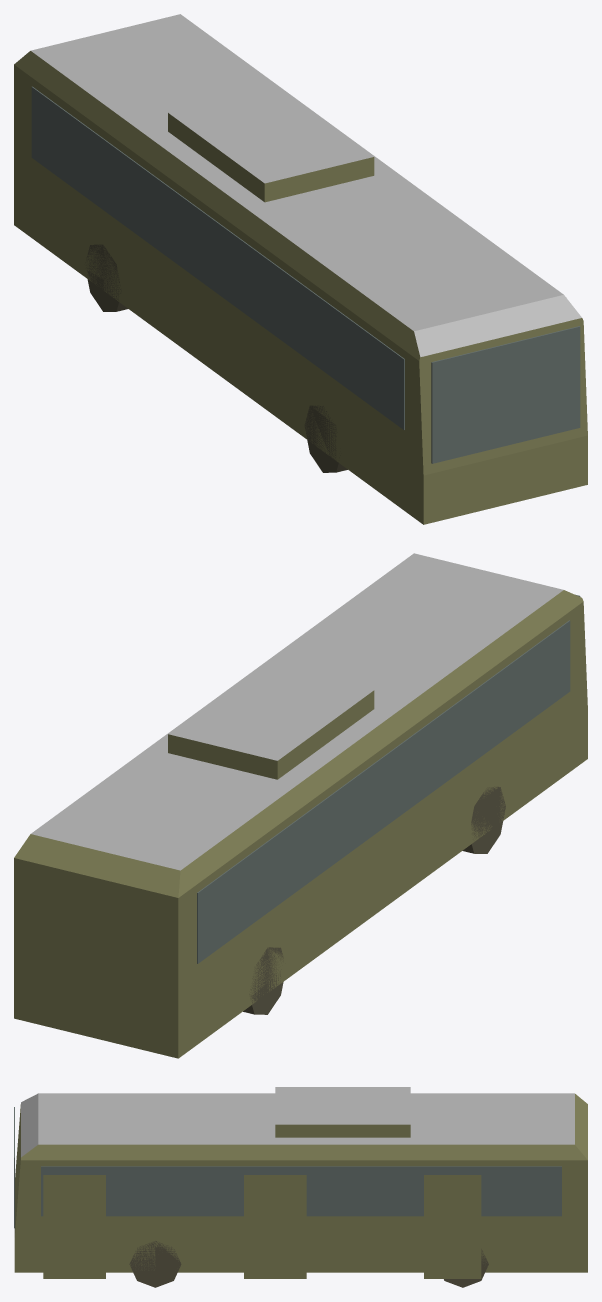
Rendered from SM_Autobus_v0_Abandonado_LOD1.fbx.
3 views of the same model, one above another, from view 1: azimuth 30°, elevation 25°; view 2: azimuth 150°, elevation 25°; view 3: azimuth 270°, elevation 25° (orthographic). The views are drawn at different scales.
Visible parts, largest first — view 1: SM_autobus_v0_LOD1; view 2: SM_autobus_v0_LOD1; view 3: SM_autobus_v0_LOD1.
Part boxes in pixels (x1=…): SM_autobus_v0_LOD1: x1=14, y1=14, x2=587, y2=524; SM_autobus_v0_LOD1: x1=14, y1=553, x2=587, y2=1058; SM_autobus_v0_LOD1: x1=14, y1=1087, x2=587, y2=1287.
Bounding box in the file's own units: 2.59 × 3.26 × 11.02.
